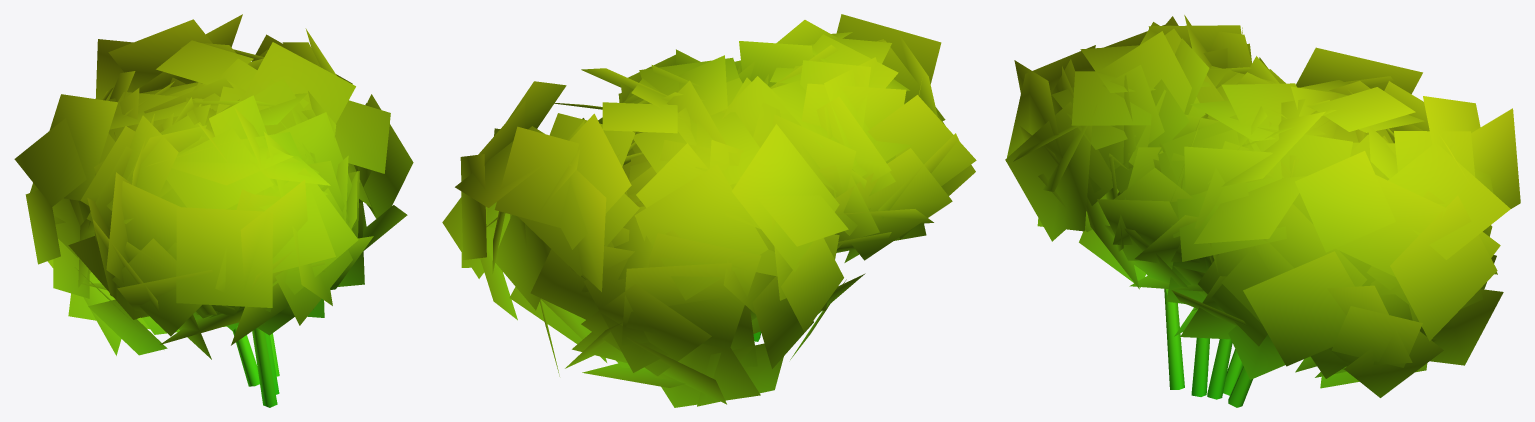
Rendered from shrub_b.glb.
The picture shows the model from 3 angles, left to right: view 1: azimuth 30°, elevation 25°; view 2: azimuth 150°, elevation 25°; view 3: azimuth 270°, elevation 25°; orthographic projection. The views are drawn at different scales.
Parts seen in each view (by area): view 1: shrub_b; view 2: shrub_b; view 3: shrub_b.
Boxes of the visible parts, x1,y1,x2,y2 form: shrub_b: (14,14,413,407); shrub_b: (442,14,976,407); shrub_b: (1005,15,1520,407).
Bounding box in the file's own units: 1.97 × 1.57 × 2.18.
